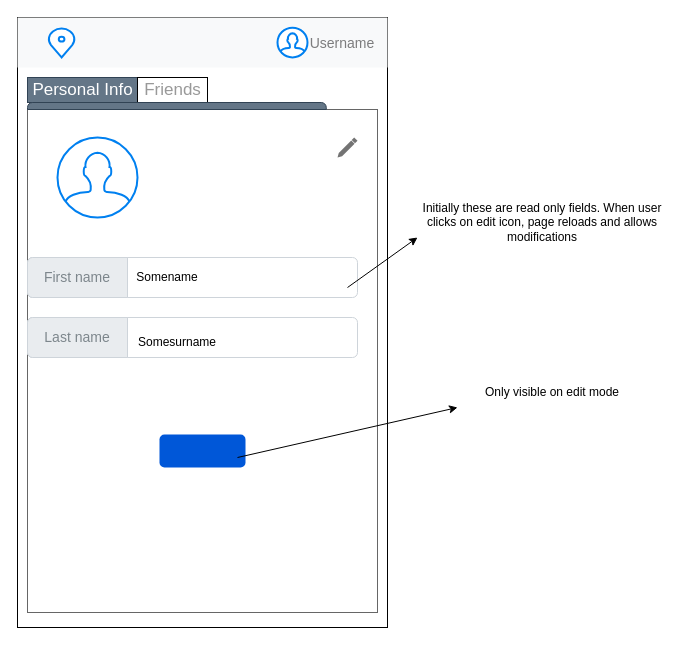
This 685x645 diagram has some shape labels left out. The box of each missing label's shape, as (x1, y1, x2, y2) in pixels:
Gr o upTripper: (17, 17, 387, 67)
Save: (159, 434, 245, 467)
